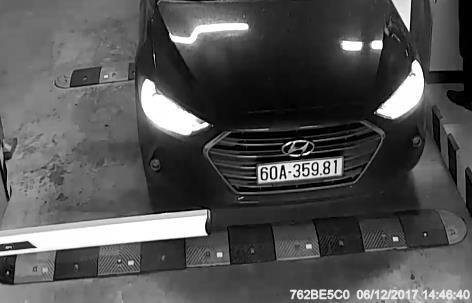License-plate: (251, 156, 355, 190)
